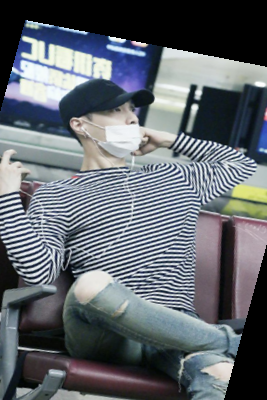mask_weared_incorrect: (52, 77, 166, 163)
